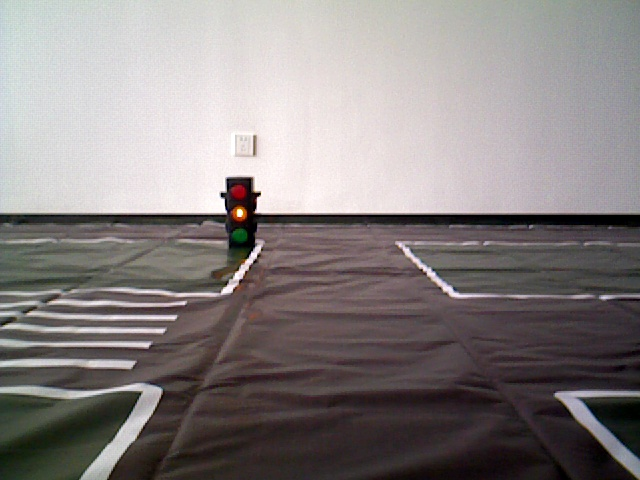yellow: (221, 177, 259, 246)
